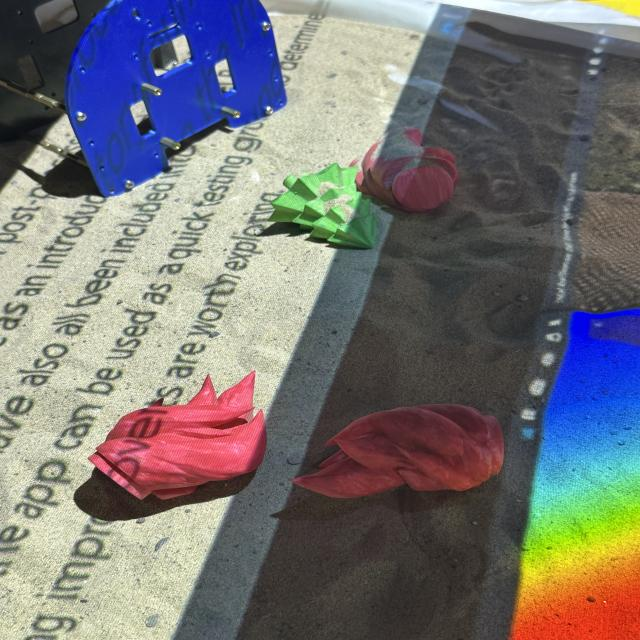fire: (87, 370, 268, 501), (289, 402, 505, 500), (358, 127, 462, 209)
tree: (266, 163, 381, 253)
